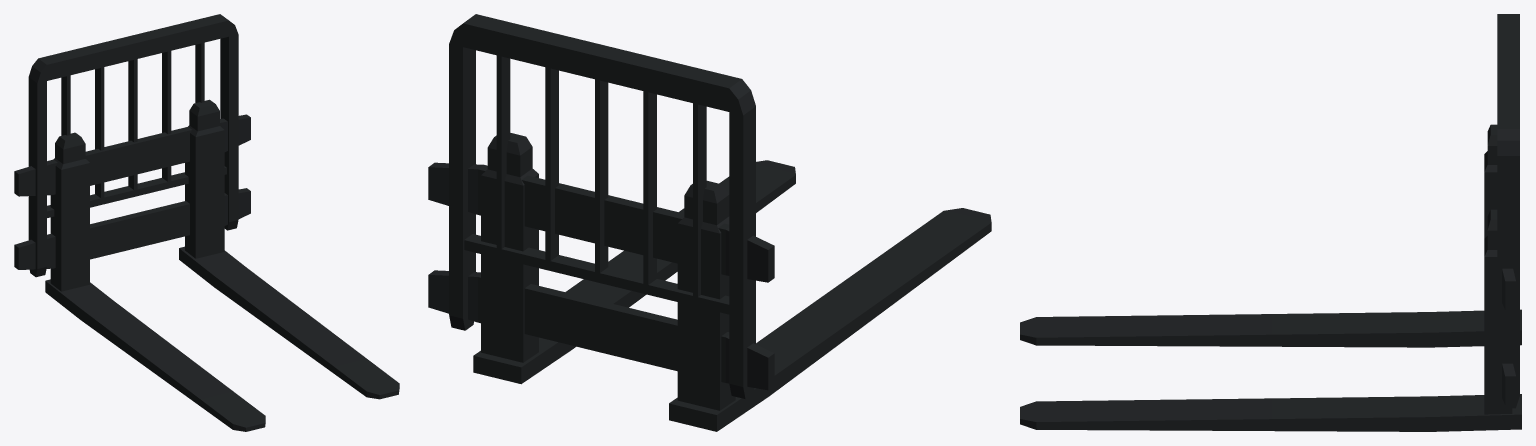
Rendered from SM_Veh_Forklift_Platform_01.obj.
3 renders of one model, left to right at view 1: azimuth 30°, elevation 25°; view 2: azimuth 150°, elevation 25°; view 3: azimuth 270°, elevation 25°, orthographic. The views are drawn at different scales.
Parts seen in each view (by area): view 1: SM_Veh_Forklift_Platform_01_0; view 2: SM_Veh_Forklift_Platform_01_0; view 3: SM_Veh_Forklift_Platform_01_0.
Part boxes in pixels (<box>): SM_Veh_Forklift_Platform_01_0: <box>14,14,399,431</box>; SM_Veh_Forklift_Platform_01_0: <box>428,14,991,431</box>; SM_Veh_Forklift_Platform_01_0: <box>1020,14,1521,431</box>.
Bounding box in the file's own units: 1.01 × 0.9859 × 1.46.
Materials: 1 (1 with a texture image).
